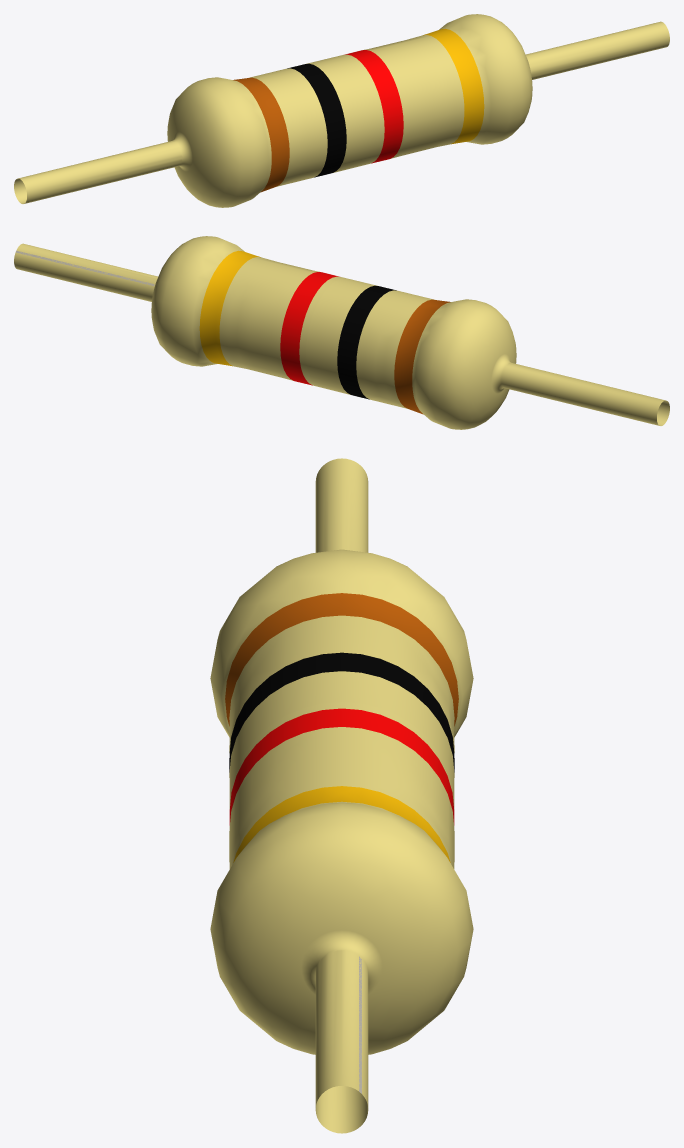
Rendered from Resistor 05W_straight.fbx.
The picture shows the model from 3 angles, top to bottom: view 1: azimuth 30°, elevation 25°; view 2: azimuth 150°, elevation 25°; view 3: azimuth 270°, elevation 25°; orthographic projection. The views are drawn at different scales.
Parts seen in each view (by area): view 1: resistor 0W5-1K0; view 2: resistor 0W5-1K0; view 3: resistor 0W5-1K0.
Boxes of the visible parts, x1,y1,x2,y2 form: resistor 0W5-1K0: (14,14,669,207); resistor 0W5-1K0: (14,236,669,429); resistor 0W5-1K0: (210,458,473,1133).
Size of the model in its own units: 169 by 30 by 30.
